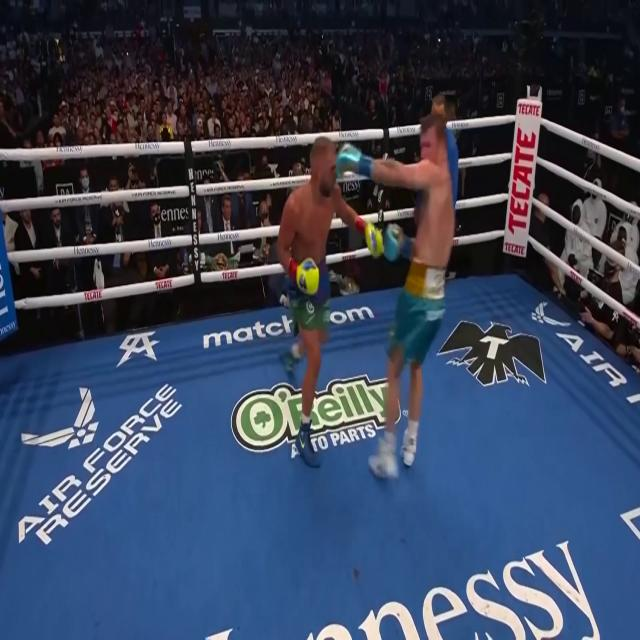boxer_1: (290, 136, 338, 267)
boxer_2: (412, 111, 455, 266)
gloves_1: (289, 255, 319, 295), (355, 216, 384, 255)
gloves_2: (337, 146, 372, 180), (384, 224, 413, 260)
